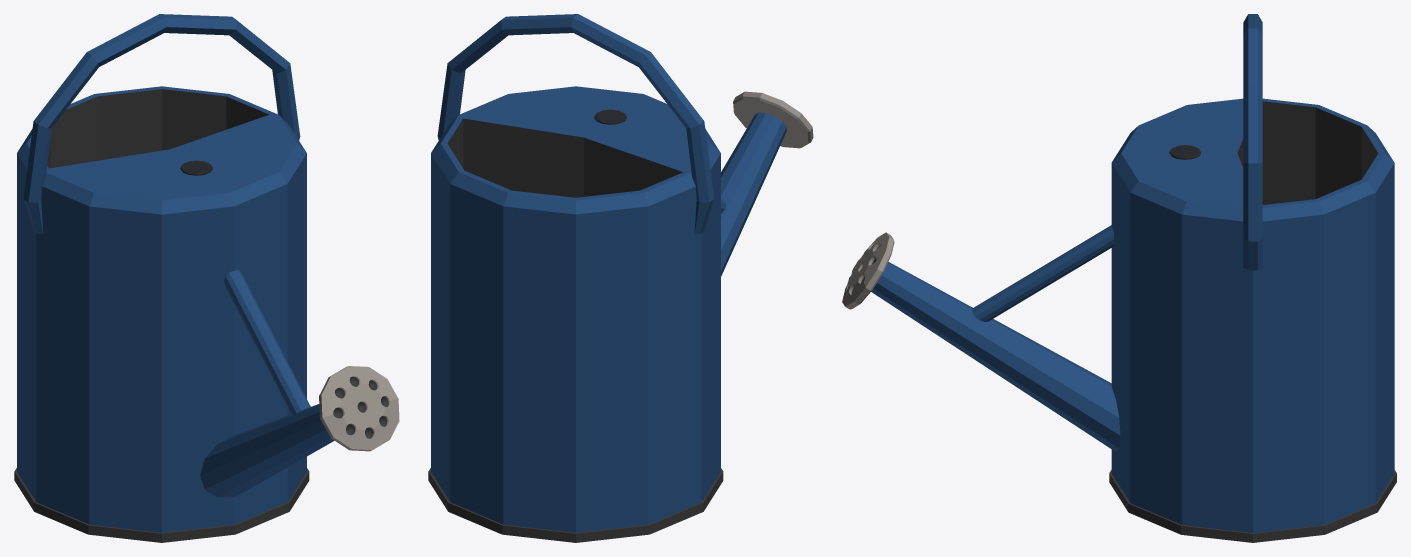
File: WateringCan_1.fbx
The picture shows the model from 3 angles, left to right: view 1: azimuth 30°, elevation 25°; view 2: azimuth 150°, elevation 25°; view 3: azimuth 270°, elevation 25°; orthographic projection. The views are drawn at different scales.
Parts seen in each view (by area): view 1: WateringCan_1; view 2: WateringCan_1; view 3: WateringCan_1.
Boxes of the visible parts, box(x1,y1,x2,y2) form: WateringCan_1: box(14, 14, 399, 542); WateringCan_1: box(428, 14, 813, 542); WateringCan_1: box(842, 14, 1396, 542).
Bounding box in the file's own units: 49.31 × 80.58 × 89.35.
